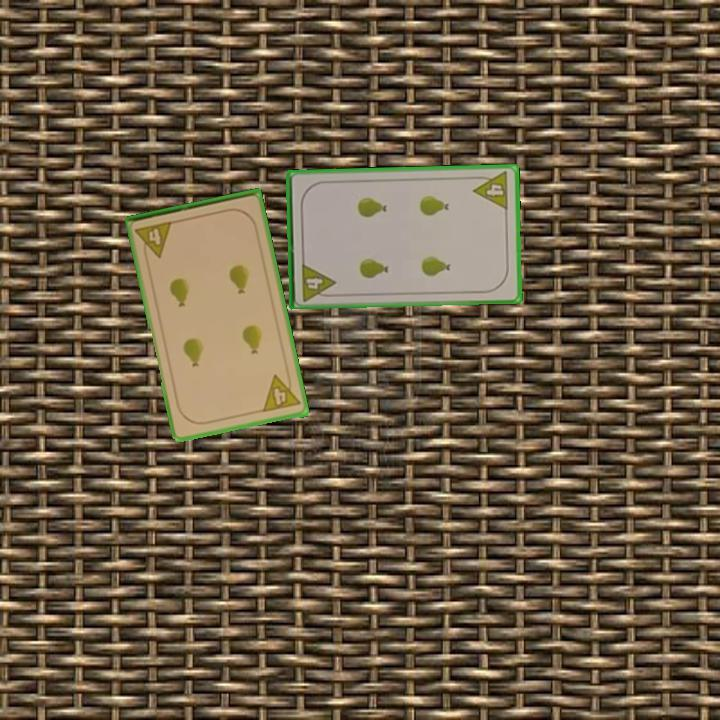4p: (259, 370, 303, 415), (132, 218, 176, 263), (470, 168, 512, 213), (298, 260, 338, 304)
